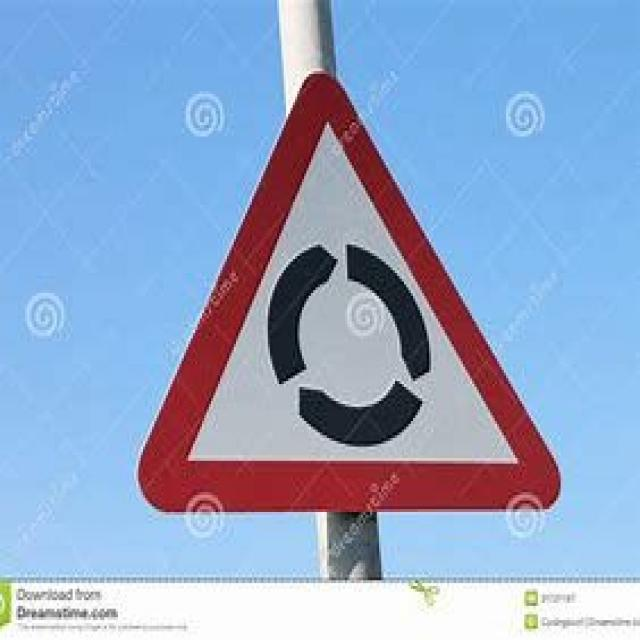ROUNDABOUT: (134, 65, 565, 512)
